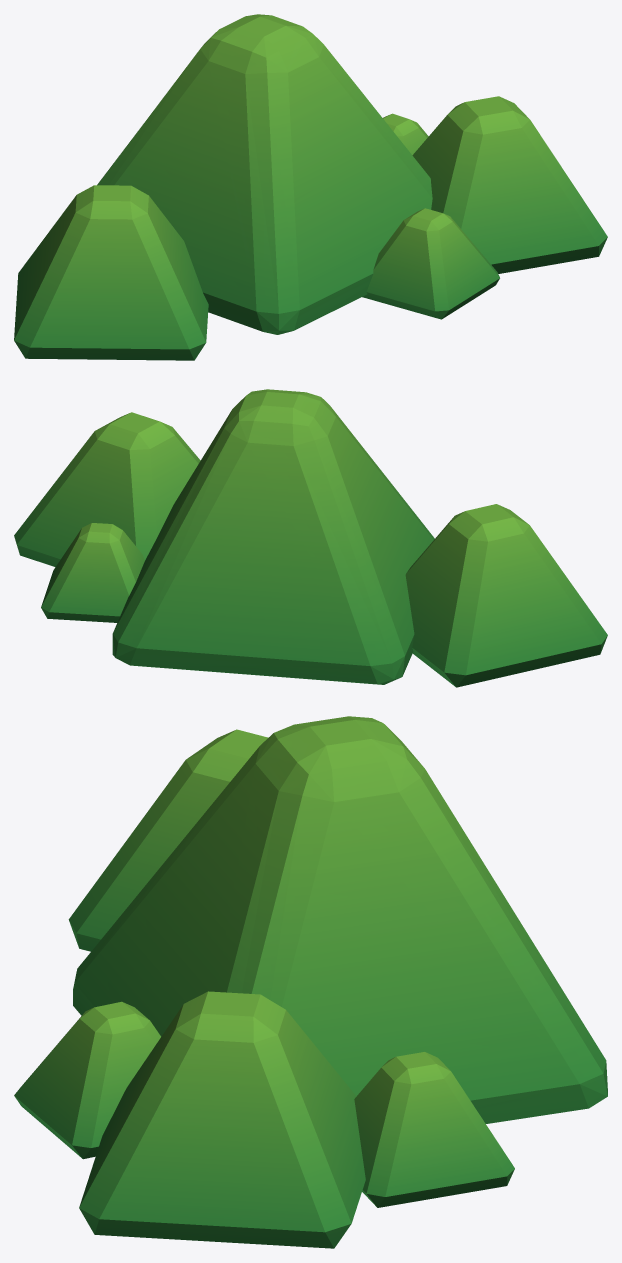
The model's file is kf_bush_4_f.fbx.
3 views of the same model, one above another, from view 1: azimuth 30°, elevation 25°; view 2: azimuth 150°, elevation 25°; view 3: azimuth 270°, elevation 25° (orthographic). The views are drawn at different scales.
Visible parts, largest first — view 1: kf_bush_4_f_LOD0; view 2: kf_bush_4_f_LOD0; view 3: kf_bush_4_f_LOD0.
Boxes of the visible parts, bbox=[...] form: kf_bush_4_f_LOD0: bbox=[14, 14, 607, 360]; kf_bush_4_f_LOD0: bbox=[14, 389, 607, 687]; kf_bush_4_f_LOD0: bbox=[14, 716, 607, 1248].
Size of what is drawn, in the model's own units: 5.43 by 2.08 by 3.42.
1 material, 1 textured.
